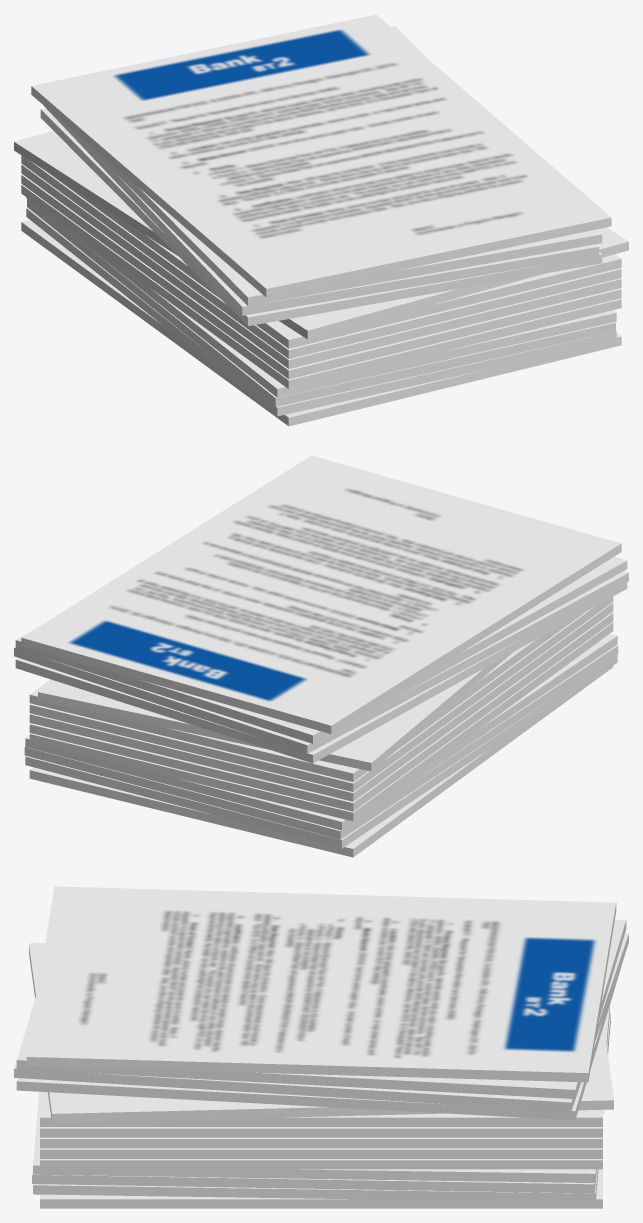
The model's file is Reports.FBX.
The picture shows the model from 3 angles, top to bottom: view 1: azimuth 30°, elevation 25°; view 2: azimuth 150°, elevation 25°; view 3: azimuth 270°, elevation 25°; orthographic projection. The views are drawn at different scales.
Parts seen in each view (by area): view 1: Reports; view 2: Reports; view 3: Reports.
Part boxes in pixels (bbox=[...]): Reports: bbox=[14, 14, 628, 426]; Reports: bbox=[14, 455, 628, 857]; Reports: bbox=[14, 886, 628, 1208].
Bounding box in the file's own units: 23.09 × 7.6 × 29.55.
1 material, 1 textured.
